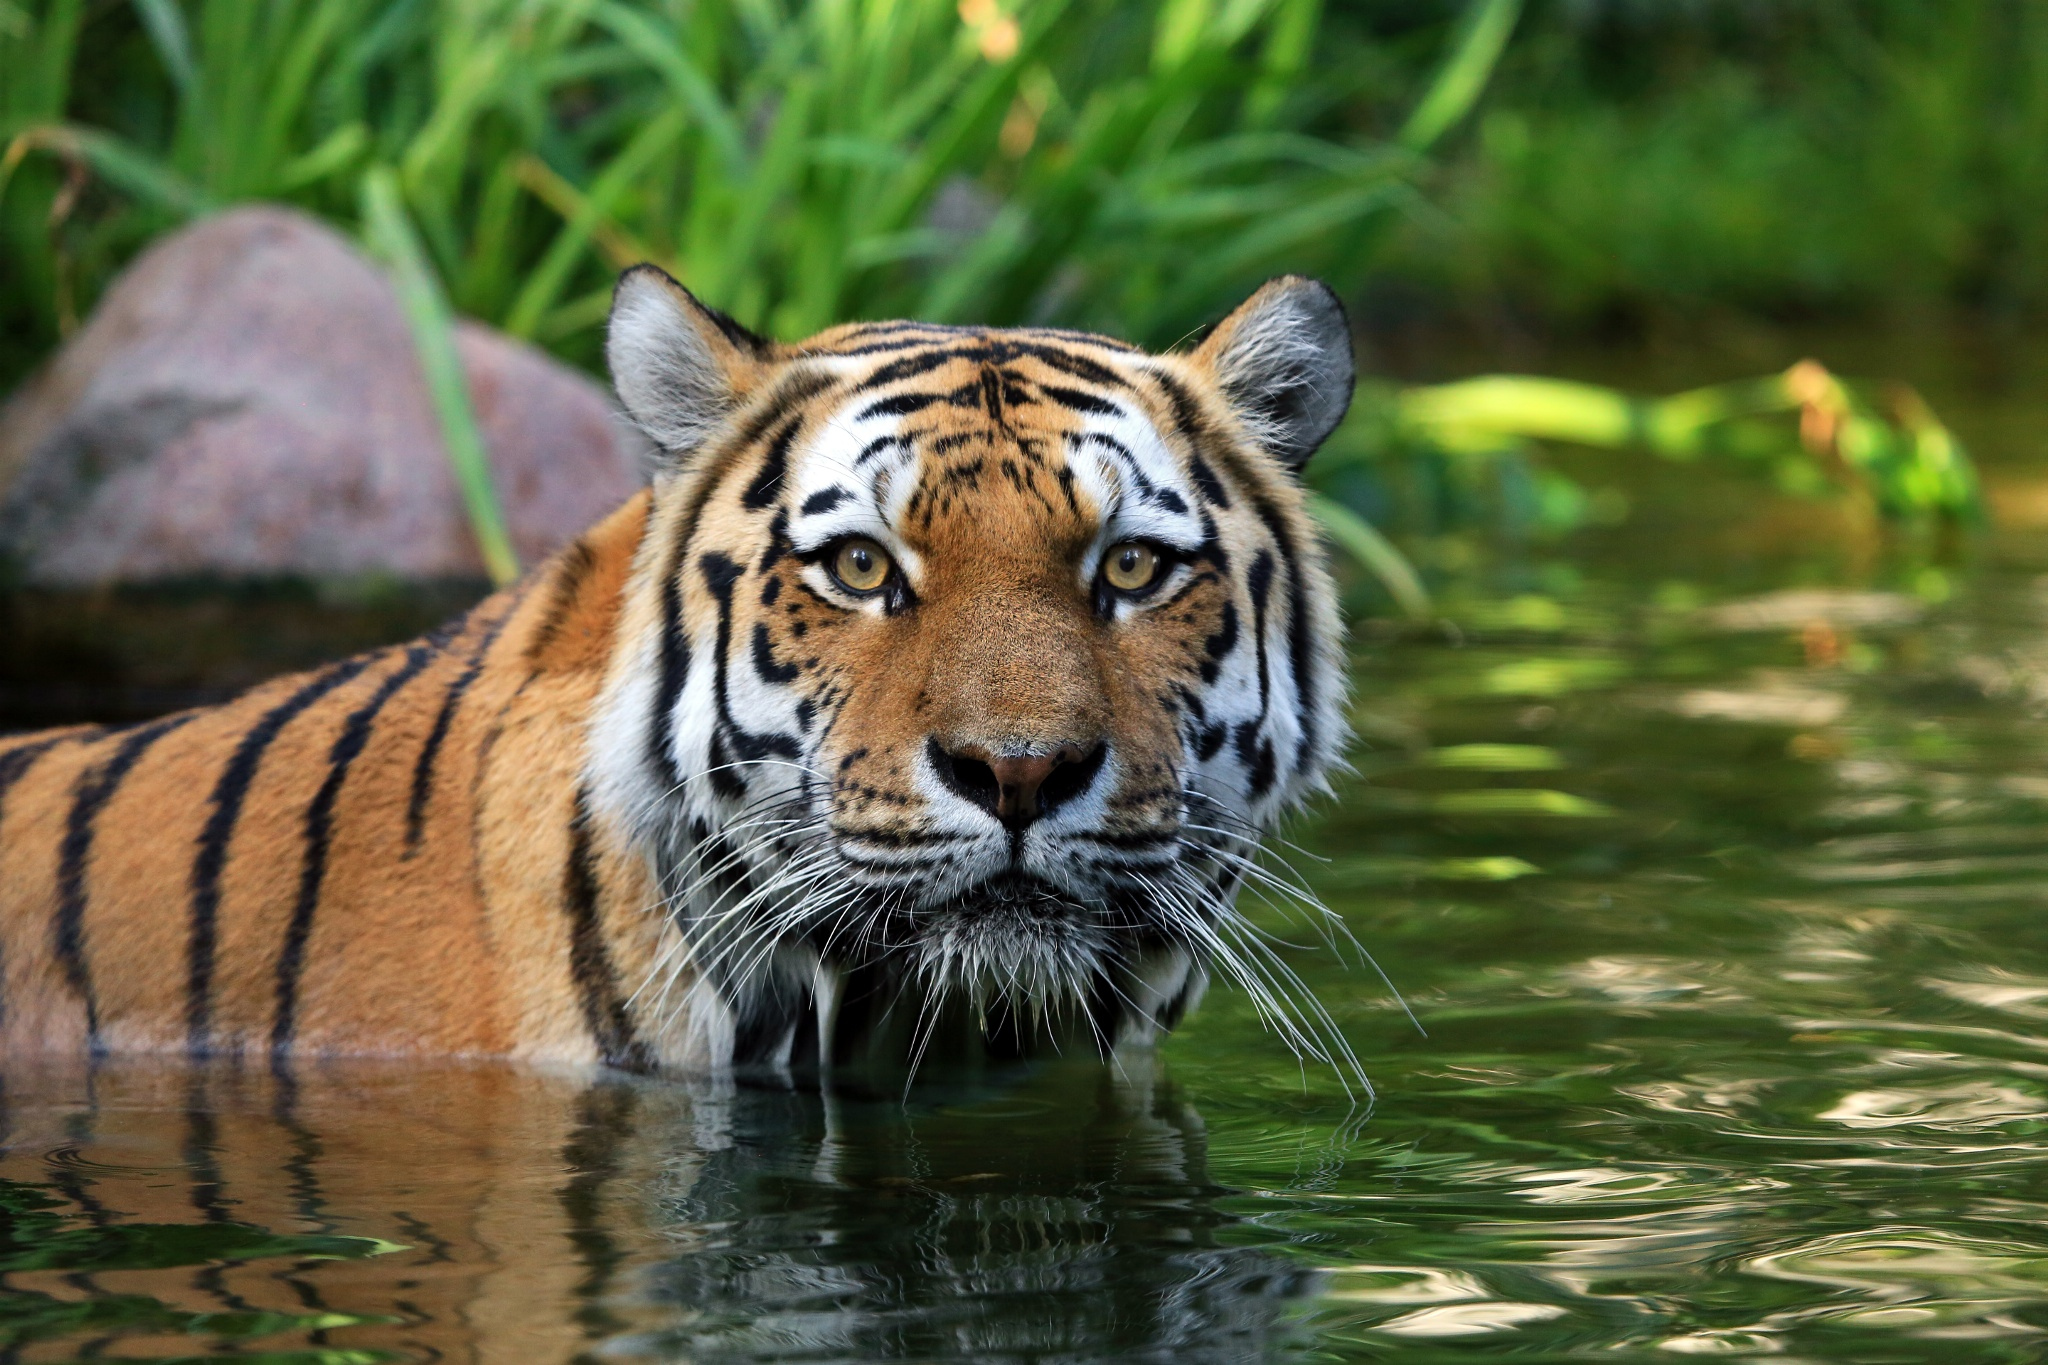tiger: (2, 289, 1488, 1041)
